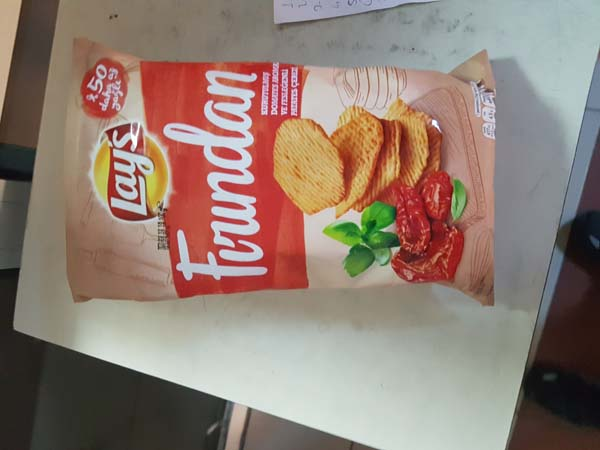laysfirindan: (62, 31, 503, 307)
